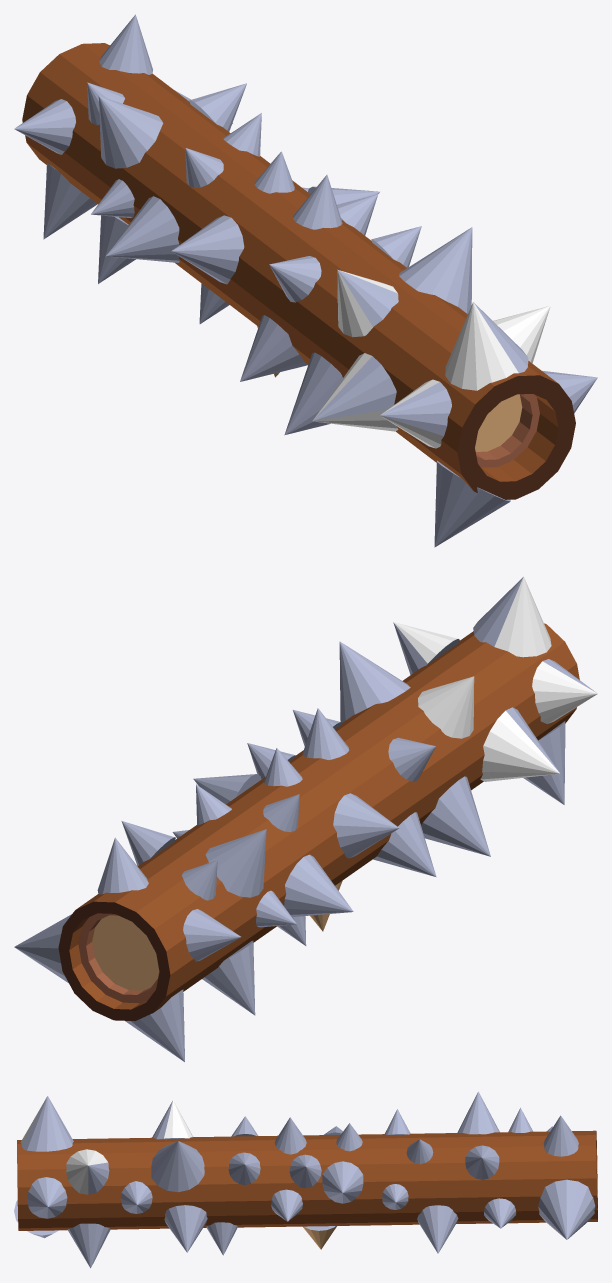
File: log.glb
3 renders of one model, top to bottom at view 1: azimuth 30°, elevation 25°; view 2: azimuth 150°, elevation 25°; view 3: azimuth 270°, elevation 25°, orthographic. The views are drawn at different scales.
Visible parts, largest first — view 1: Cone, Cylinder; view 2: Cone, Cylinder; view 3: Cylinder, Cone.
Boxes of the visible parts, bbox=[...] form: Cone: bbox=[14, 14, 597, 547]; Cylinder: bbox=[22, 43, 575, 499]; Cone: bbox=[14, 576, 597, 1061]; Cylinder: bbox=[58, 623, 579, 1020]; Cylinder: bbox=[17, 1130, 597, 1230]; Cone: bbox=[14, 1091, 595, 1268].
Bounding box in the file's own units: 5.65 × 5.06 × 17.16.
